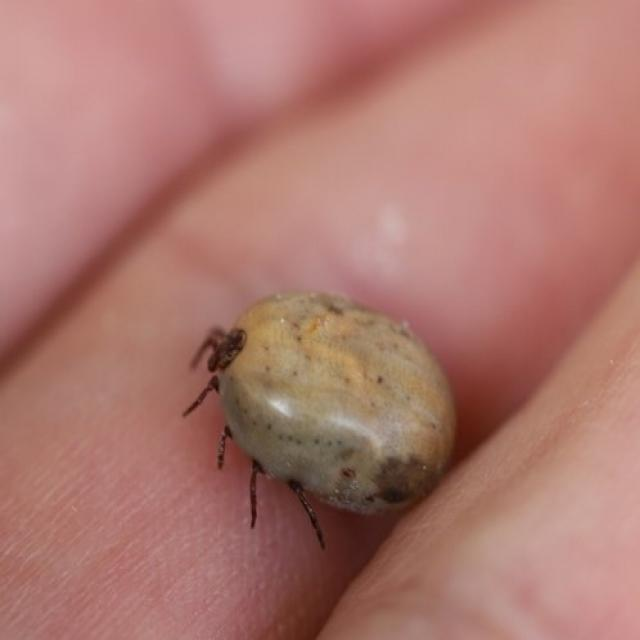Dermacentor Reticulatus-F-Fed: (182, 292, 456, 552)
